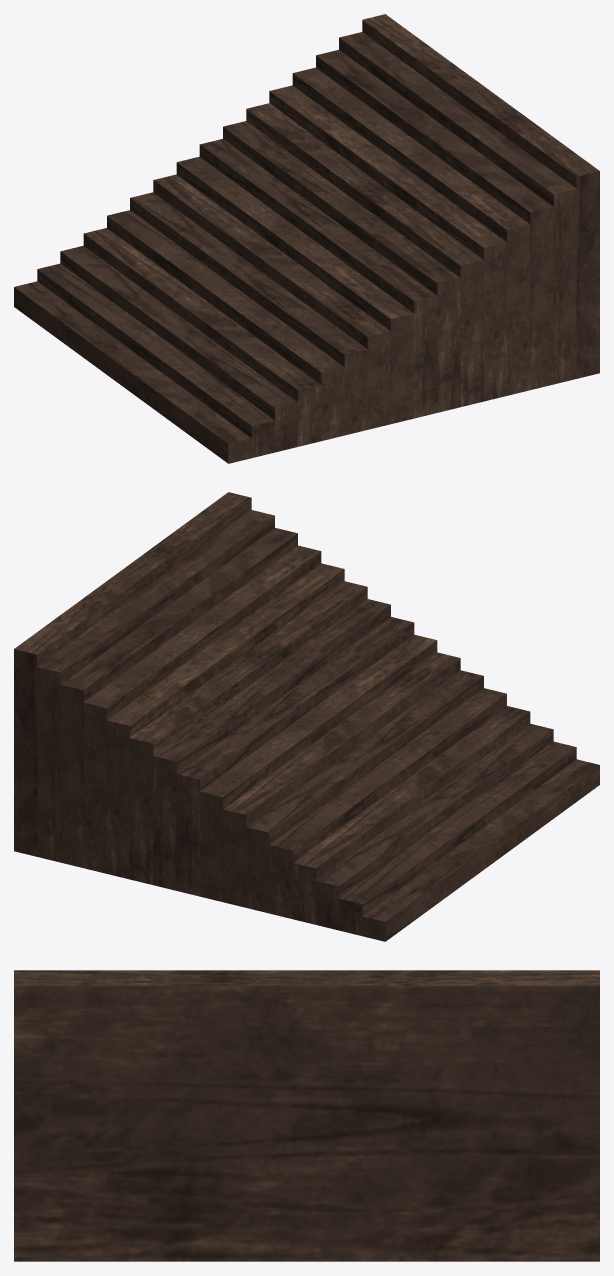
The model's file is Stairs.L.fbx.
3 views of the same model, one above another, from view 1: azimuth 30°, elevation 25°; view 2: azimuth 150°, elevation 25°; view 3: azimuth 270°, elevation 25° (orthographic). The views are drawn at different scales.
Parts seen in each view (by area): view 1: SM_Env_Stairs25MWide002; view 2: SM_Env_Stairs25MWide002; view 3: SM_Env_Stairs25MWide002.
Part boxes in pixels (left/top/right/bottom): SM_Env_Stairs25MWide002: left=14, top=14, right=599, bottom=463; SM_Env_Stairs25MWide002: left=14, top=492, right=599, bottom=941; SM_Env_Stairs25MWide002: left=14, top=970, right=599, bottom=1261.
Bounding box in the file's own units: 5 × 5 × 2.6.
